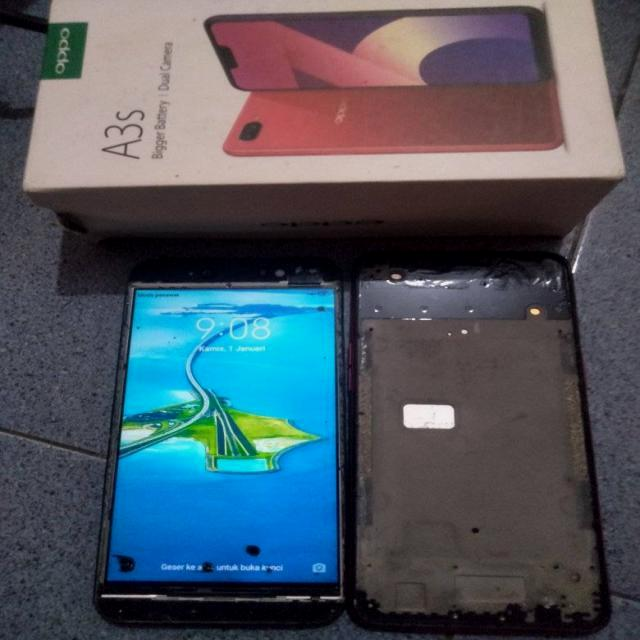phone: (105, 239, 341, 619)
